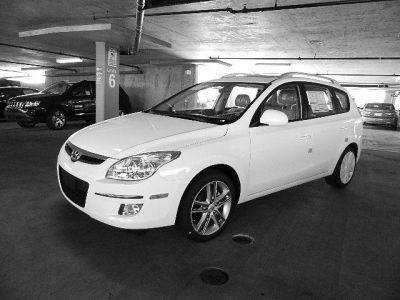car: (58, 73, 365, 246)
